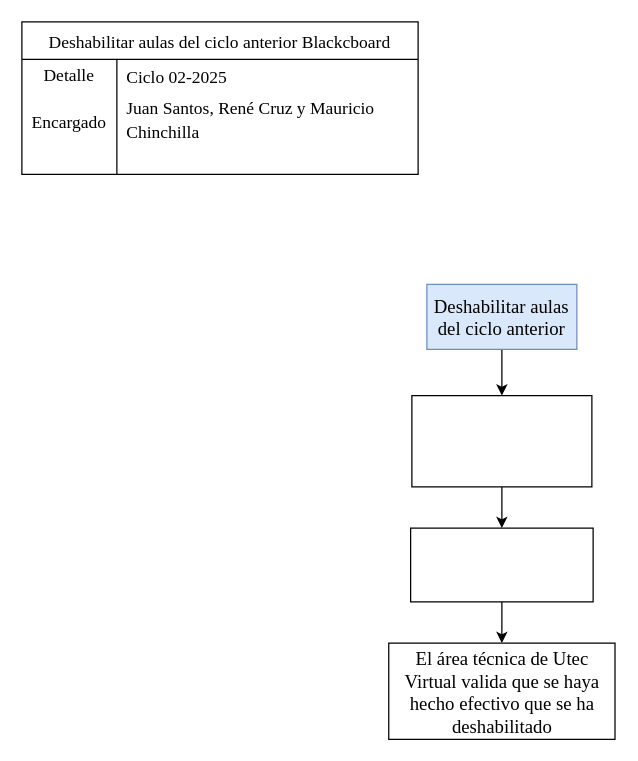
The diagram is 638 pixels wide and 761 high, and some of its shapes have lost their labels. The centre of each missing label's shape, as x and y in pixels:
Esperar confirmación de la Dirección de Tecnología: (501,564)
Notificar al encargado en la dirección de tecnología el ciclo ha deshabilitar: (501,440)
